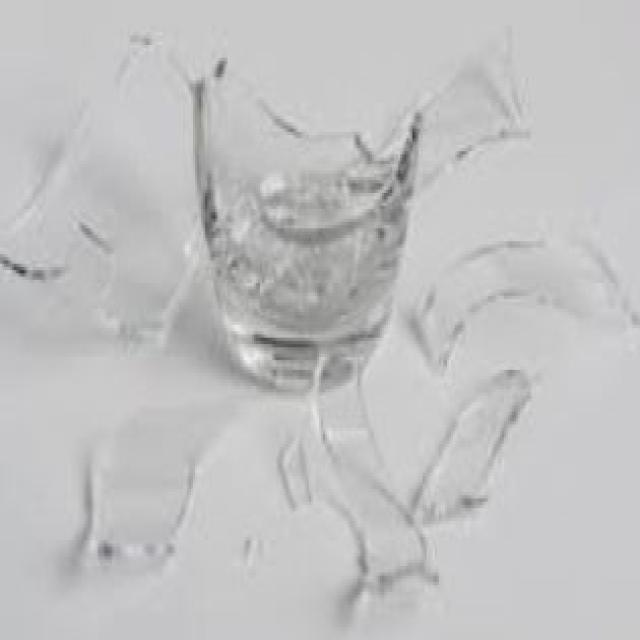electronic: (191, 54, 428, 398)
